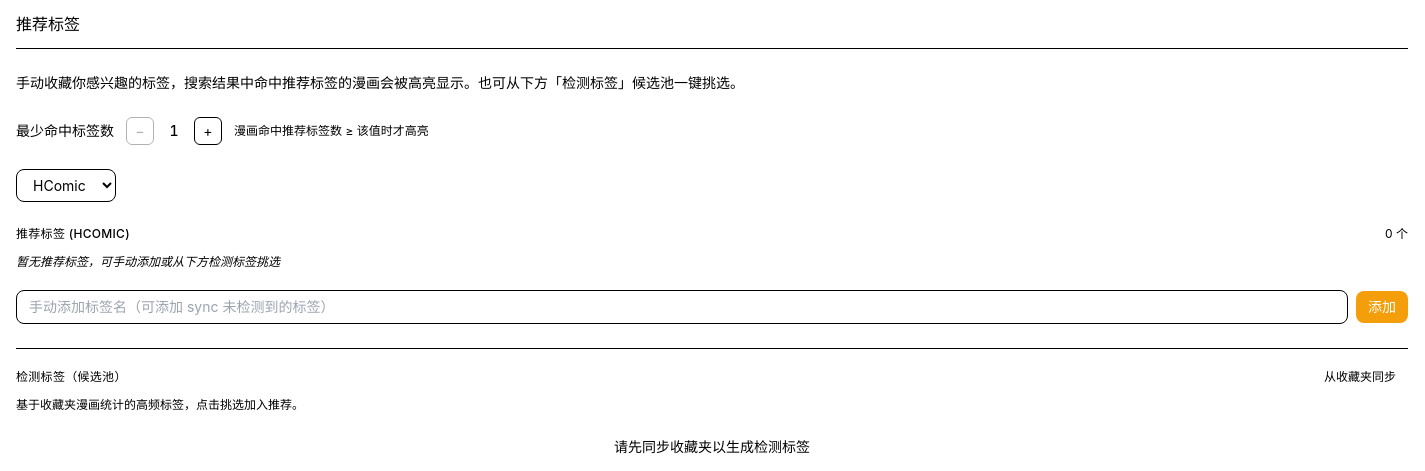
it: FavouriteTagSettings - 推荐标签 / 检测标签双区 › 同步中根据 enriching 进度显示补全标签文案
The width and height of the screenshot is (1425, 471).
Click the button "从收藏夹同步".
click(1360, 377)  # box [1312,365,1408,389]
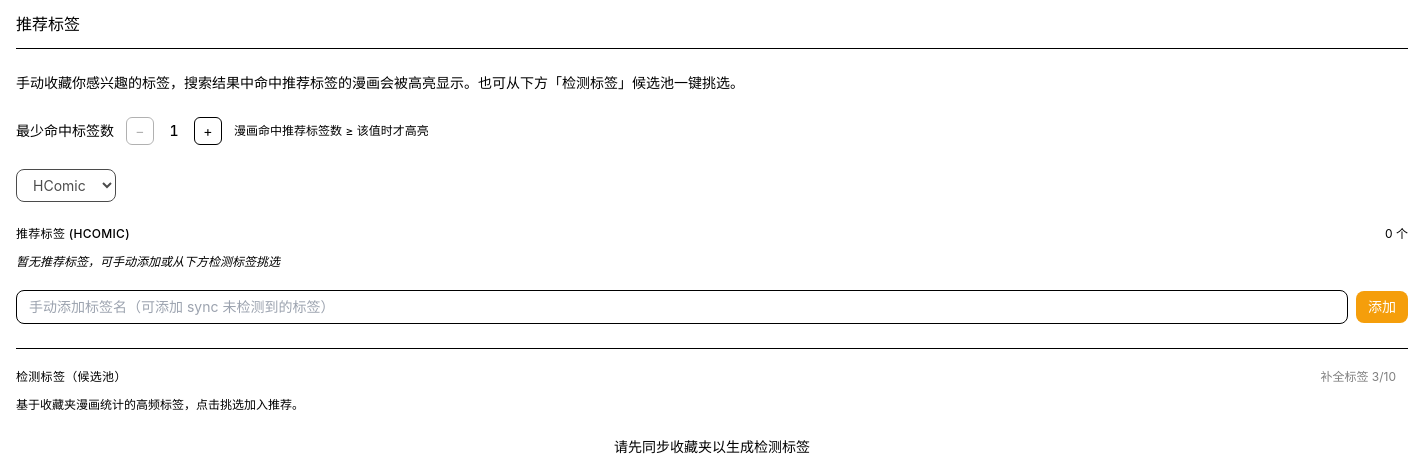
Expected: the button "补全标签 3/10" is shown, [1308,365,1408,389]
